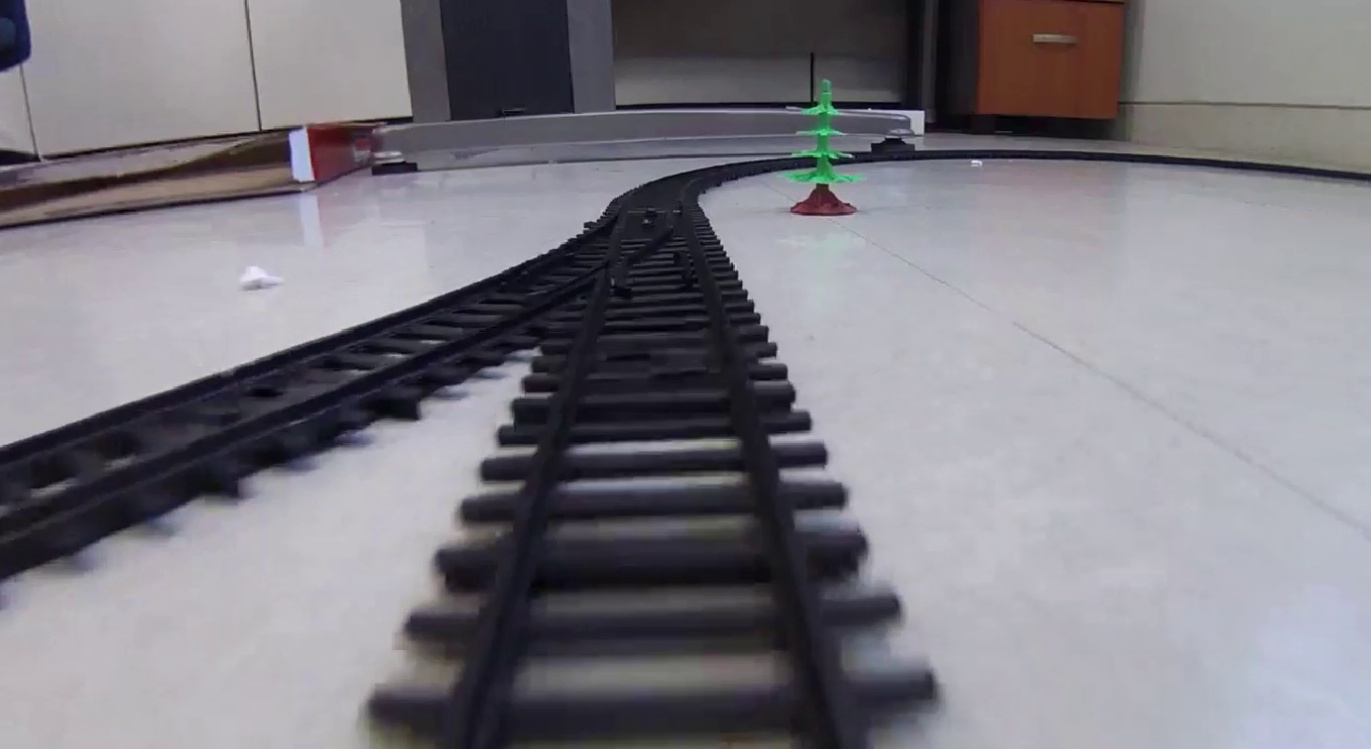tree: (784, 78, 863, 215)
